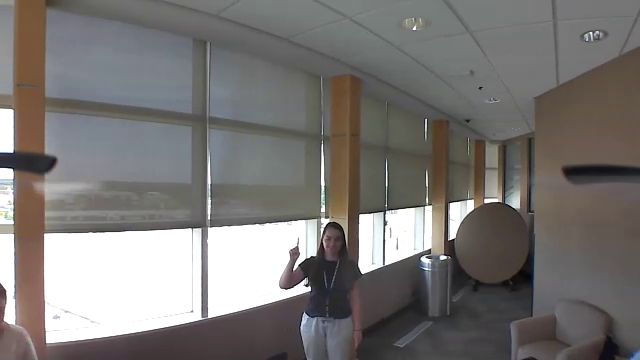up: (285, 235, 303, 260)
